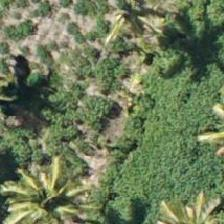coconut_tree: (0, 155, 88, 223)
